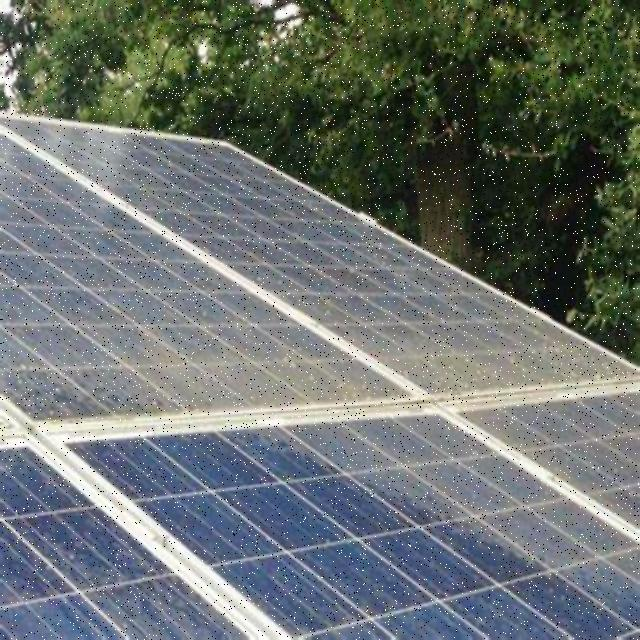dusty: (3, 283, 631, 427), (309, 383, 632, 610)
